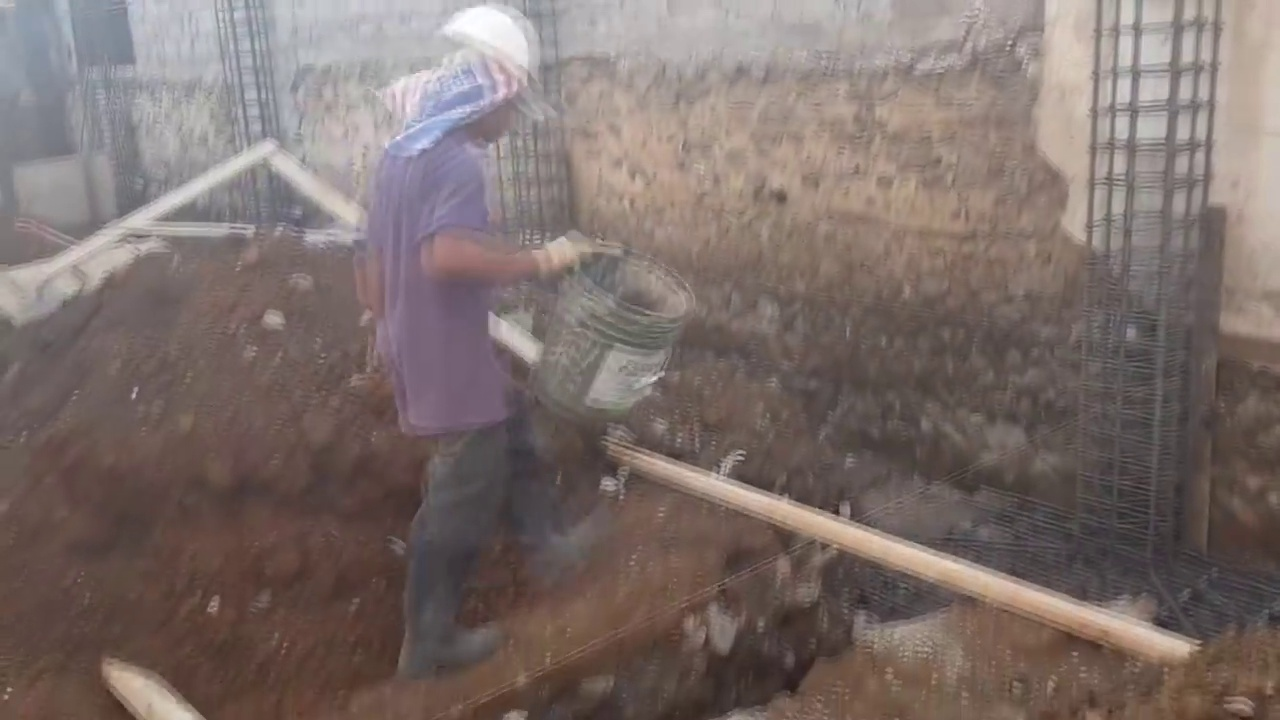helmet: (439, 6, 543, 88)
helmet-on: (404, 0, 530, 174)
person: (354, 0, 599, 655)
